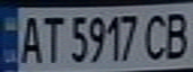1: (106, 11, 124, 62)
5: (66, 11, 90, 63)
7: (118, 11, 142, 62)
9: (87, 12, 109, 63)
A: (15, 12, 45, 65)
B: (160, 8, 193, 61)
C: (142, 10, 172, 61)
T: (36, 11, 66, 64)
